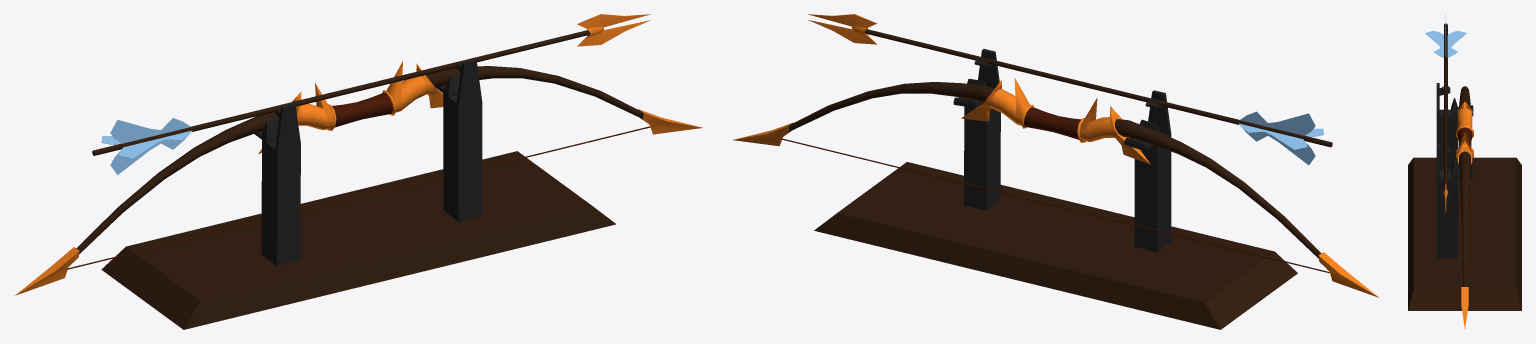
Rendered from Avian_bow.fbx.
3 views of the same model, side by side, from view 1: azimuth 30°, elevation 25°; view 2: azimuth 150°, elevation 25°; view 3: azimuth 270°, elevation 25° (orthographic). The views are drawn at different scales.
Parts seen in each view (by area): view 1: Box001, Box003, Cylinder002, Cylinder005; view 2: Box001, Cylinder002, Box003, Cylinder005; view 3: Box001, Box003, Cylinder002, Cylinder005.
Boxes of the visible parts, x1,y1,x2,y2 form: Box001: (101,151,615,329); Box003: (254,59,482,265); Cylinder002: (15,61,702,295); Cylinder005: (92,14,650,174); Box001: (814,162,1297,329); Cylinder002: (733,77,1378,297); Box003: (953,49,1171,252); Cylinder005: (807,14,1332,165); Box001: (1408,157,1521,310); Box003: (1436,83,1473,258); Cylinder002: (1456,86,1473,328); Cylinder005: (1425,14,1466,214).
Size of the model in its own units: 287 by 79.4 by 59.4.
